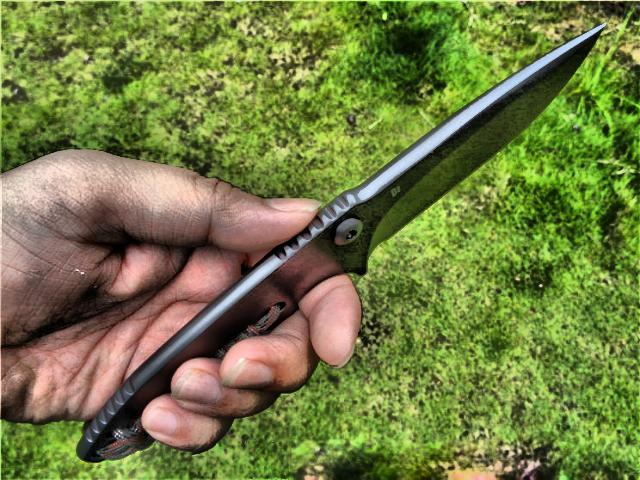knife: (67, 17, 617, 469)
